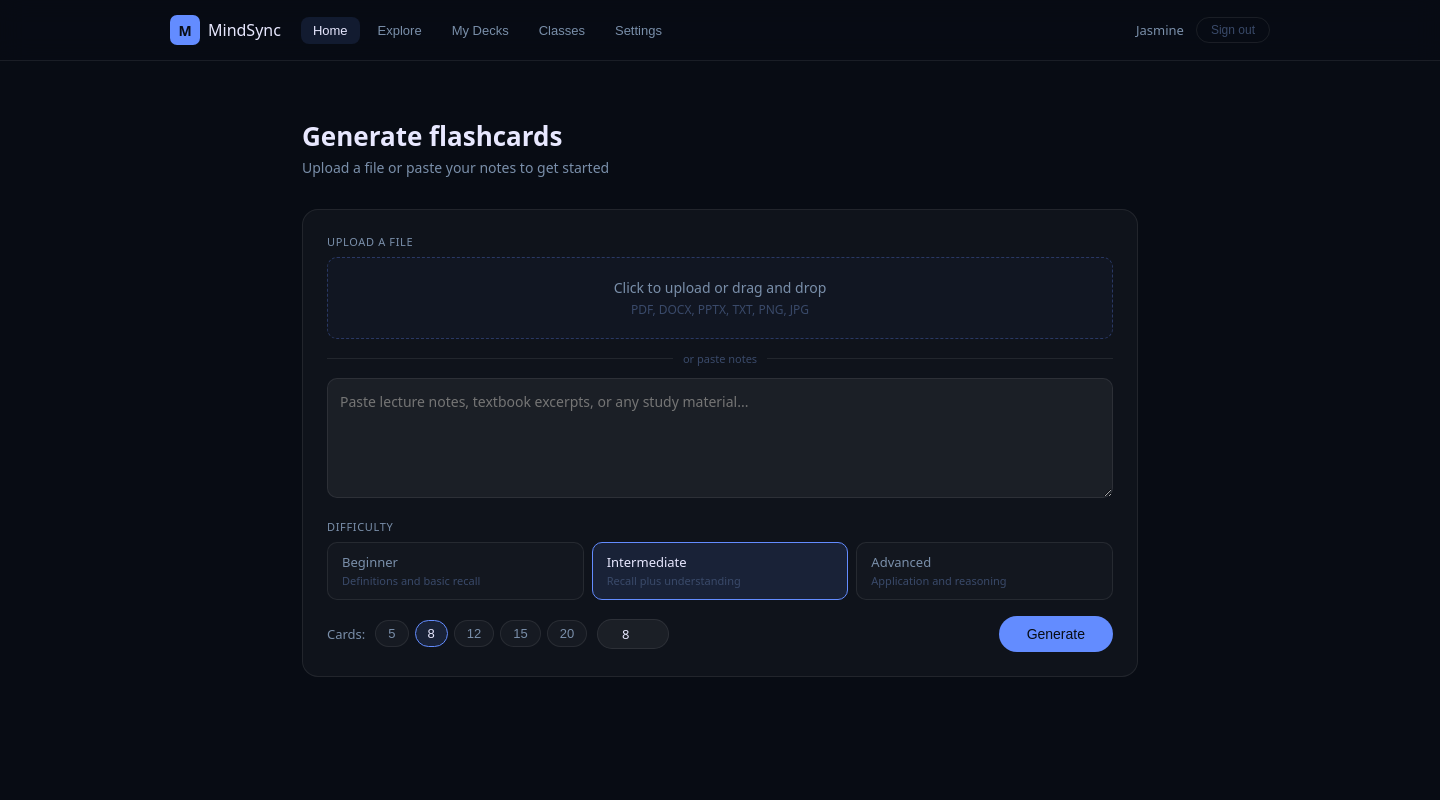
Test: review screen › edited text carries through to the deck
The image size is (1440, 800).
Type "notes" into the text box with placeholder "Paste lecture notes" at (720, 438), box x1=327 y1=378 x2=1113 y2=498
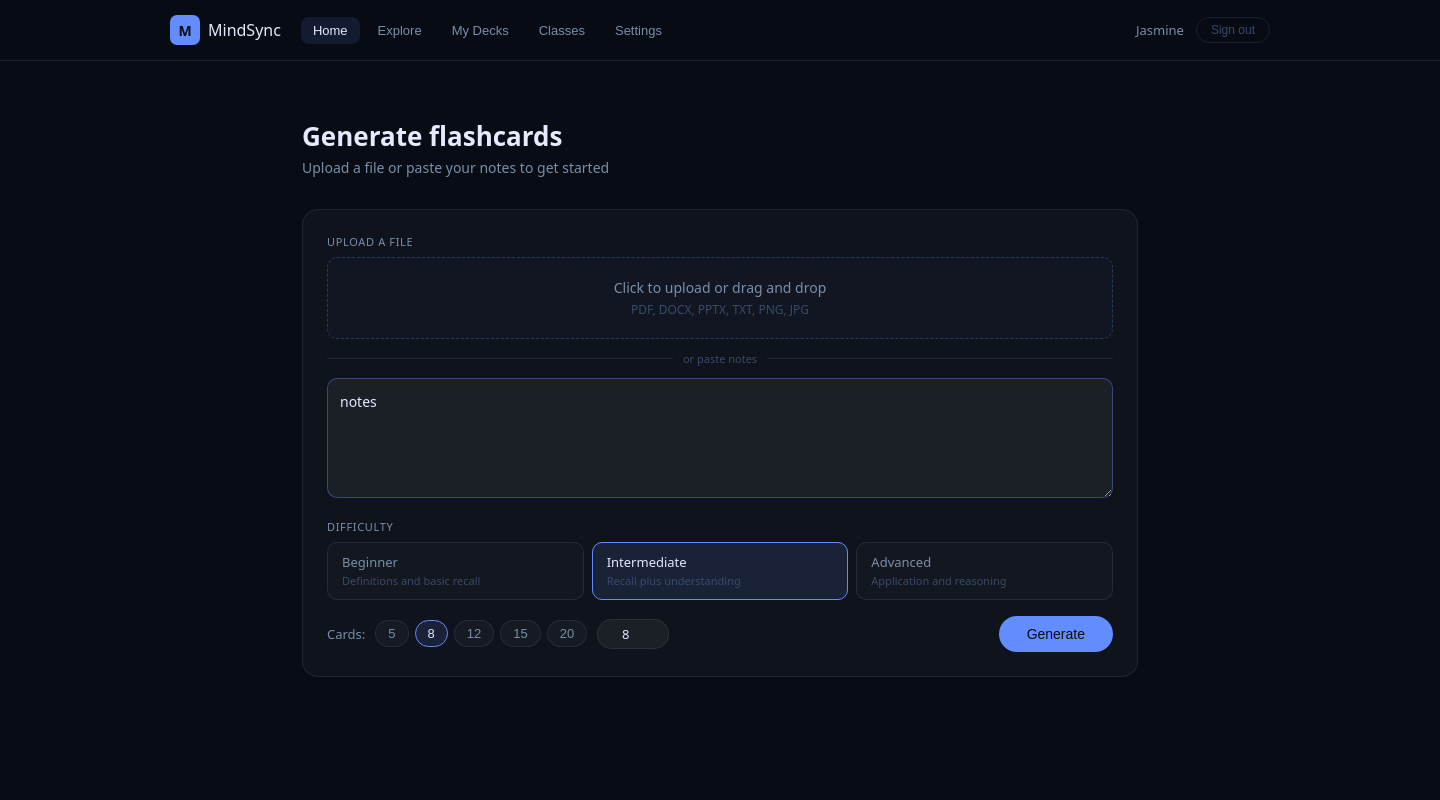
Click the button "Generate" at (1056, 634), box x1=999 y1=616 x2=1113 y2=652
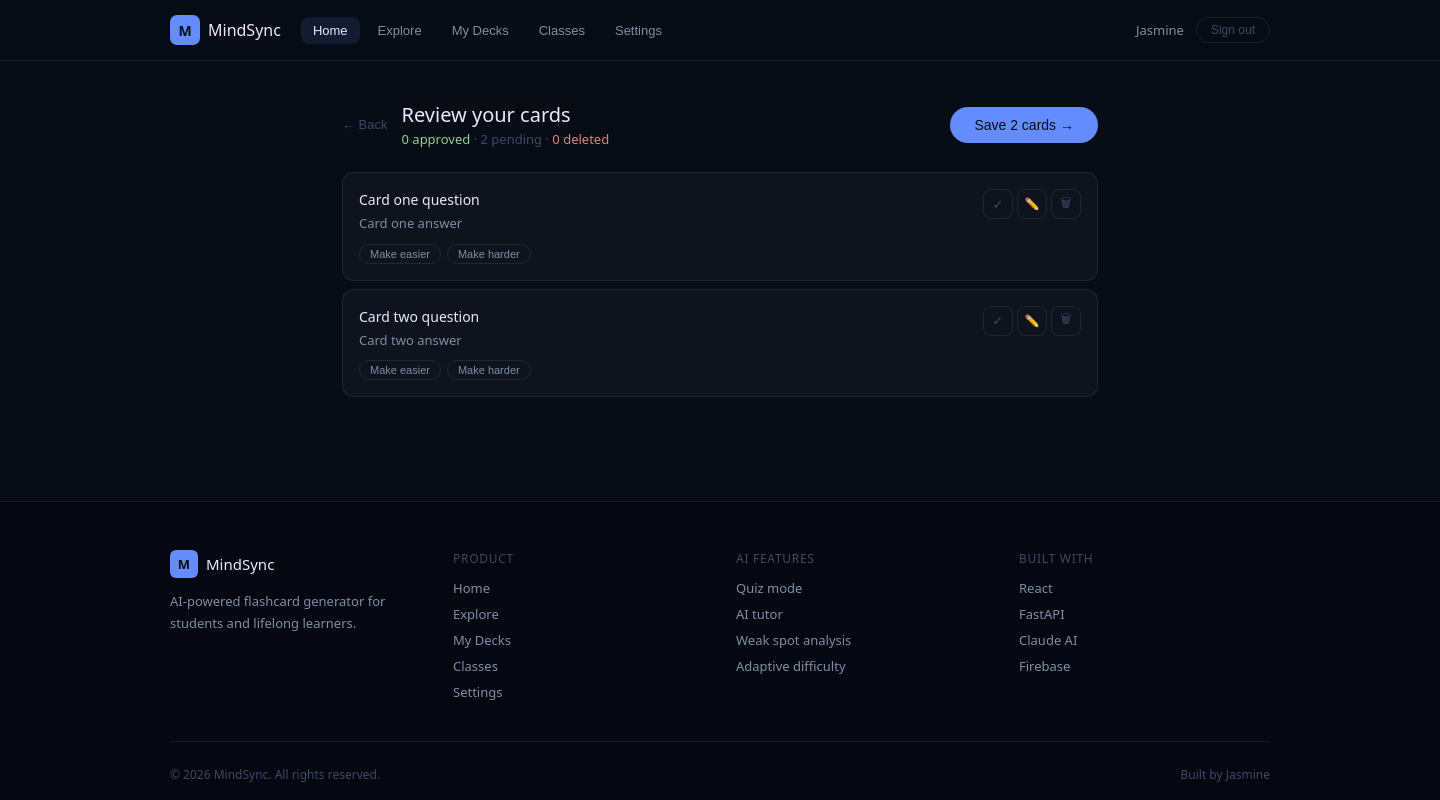
expect the text "Review your cards" is shown: met, box x1=402 y1=101 x2=571 y2=128
Click the button titled "Edit" in the row of "Card one question" at (1032, 204), box x1=1017 y1=189 x2=1047 y2=219
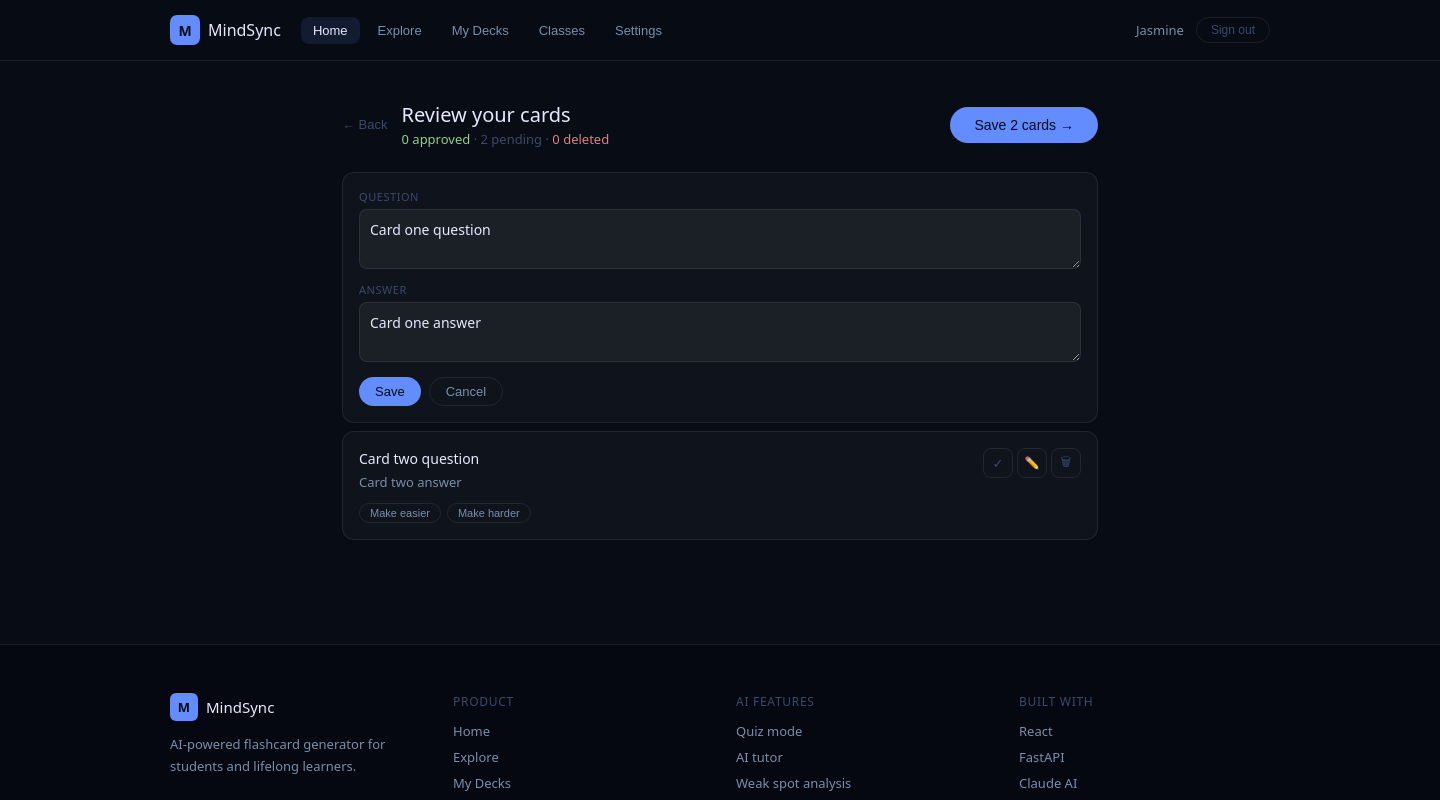
Replace the text in the 1st text box showing "Card one question" with "My rewritten question" at (720, 239), box x1=359 y1=209 x2=1081 y2=269
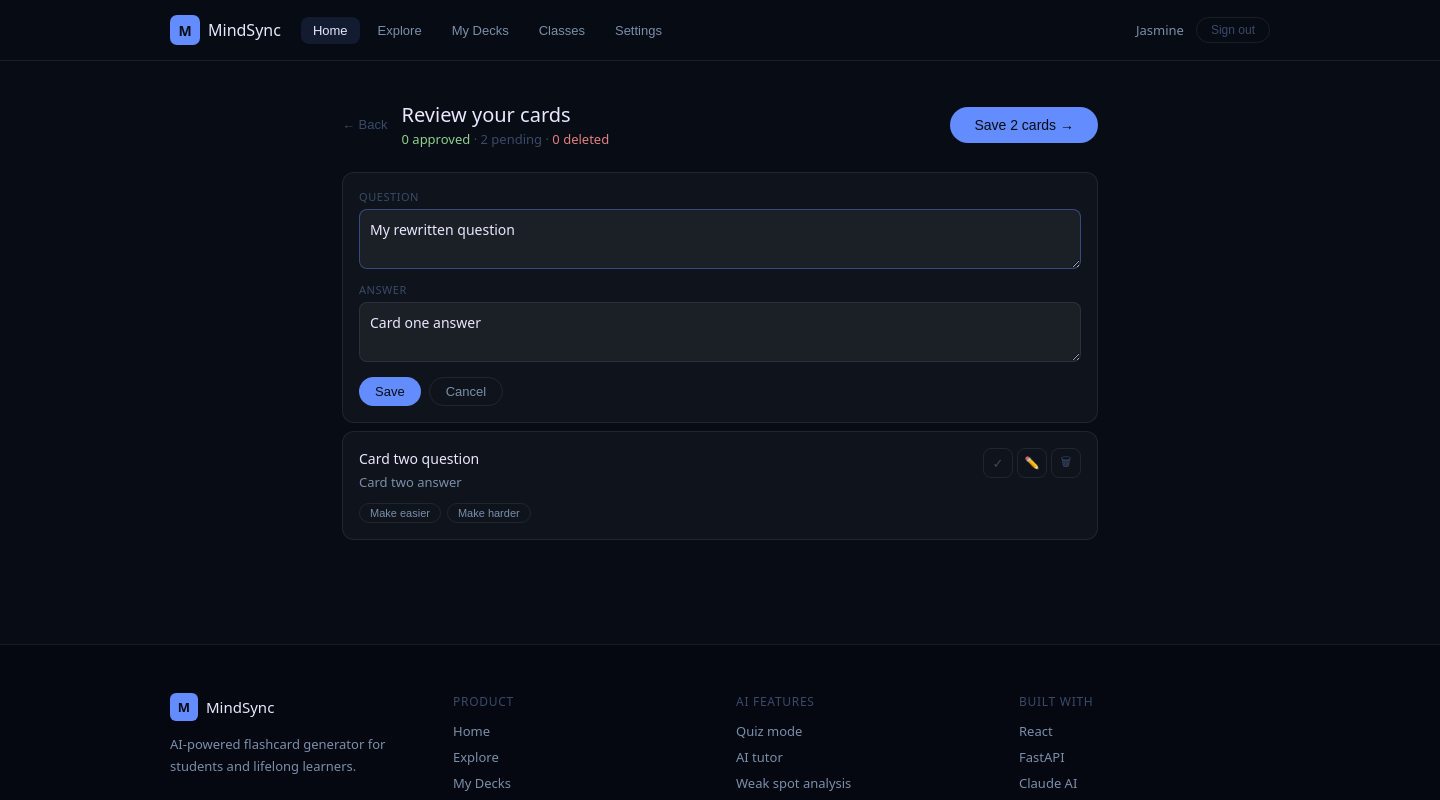
Click the button "Save" at (390, 392), box x1=359 y1=377 x2=421 y2=406
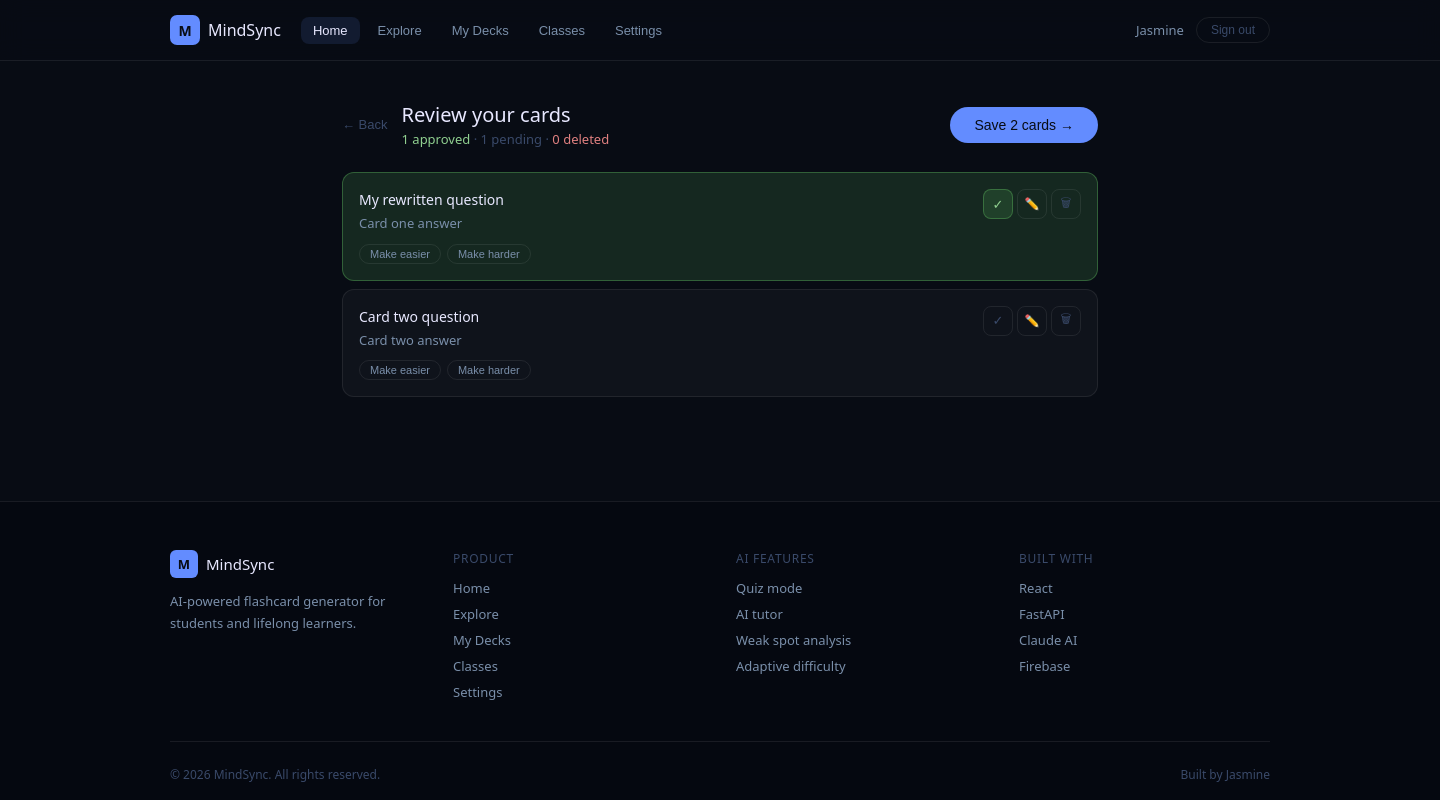
expect the text "My rewritten question" is shown: met, box x1=359 y1=190 x2=504 y2=209
